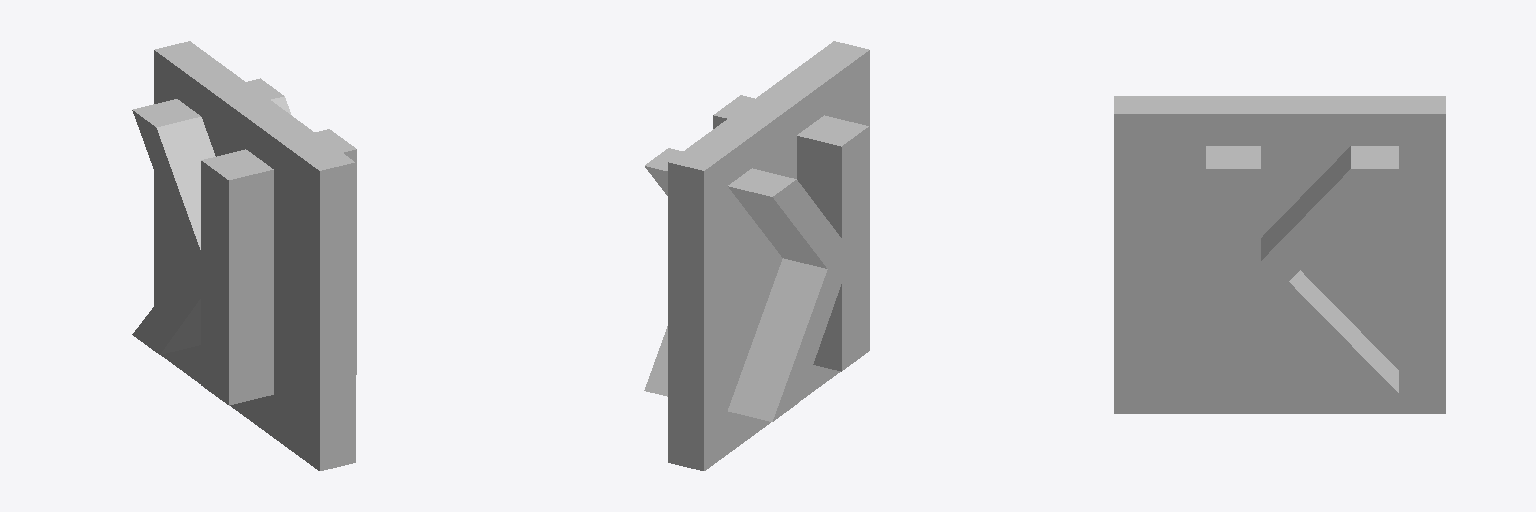
Rendered from letter_K.obj.
The picture shows the model from 3 angles: view 1: azimuth 30°, elevation 25°; view 2: azimuth 150°, elevation 25°; view 3: azimuth 270°, elevation 25°; orthographic projection.
Parts seen in each view (by area): view 1: window, Text; view 2: window, Text; view 3: window, Text.
Boxes of the visible parts, box(x1,y1,x2,y2) form: window: box(154, 41, 355, 470); Text: box(132, 78, 356, 405); window: box(668, 41, 869, 470); Text: box(644, 95, 868, 421); window: box(1114, 96, 1445, 413); Text: box(1206, 146, 1398, 393).
Bounding box in the file's own units: 0.894 × 2 × 2.